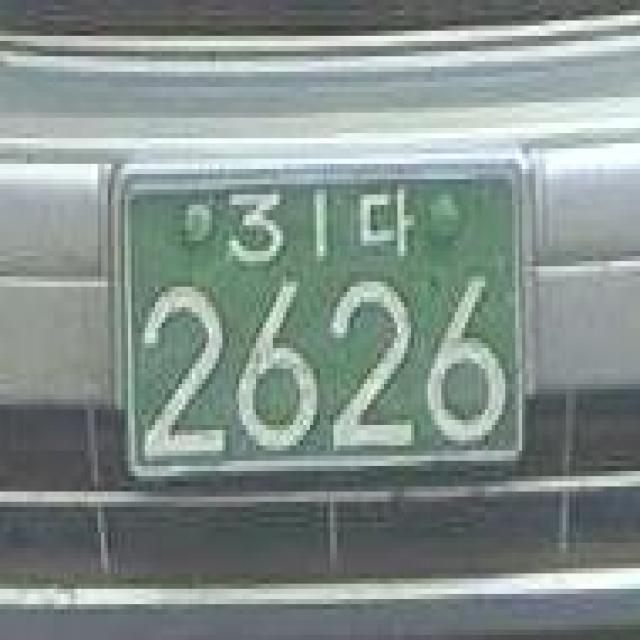illegal_plate: (97, 139, 550, 503)
